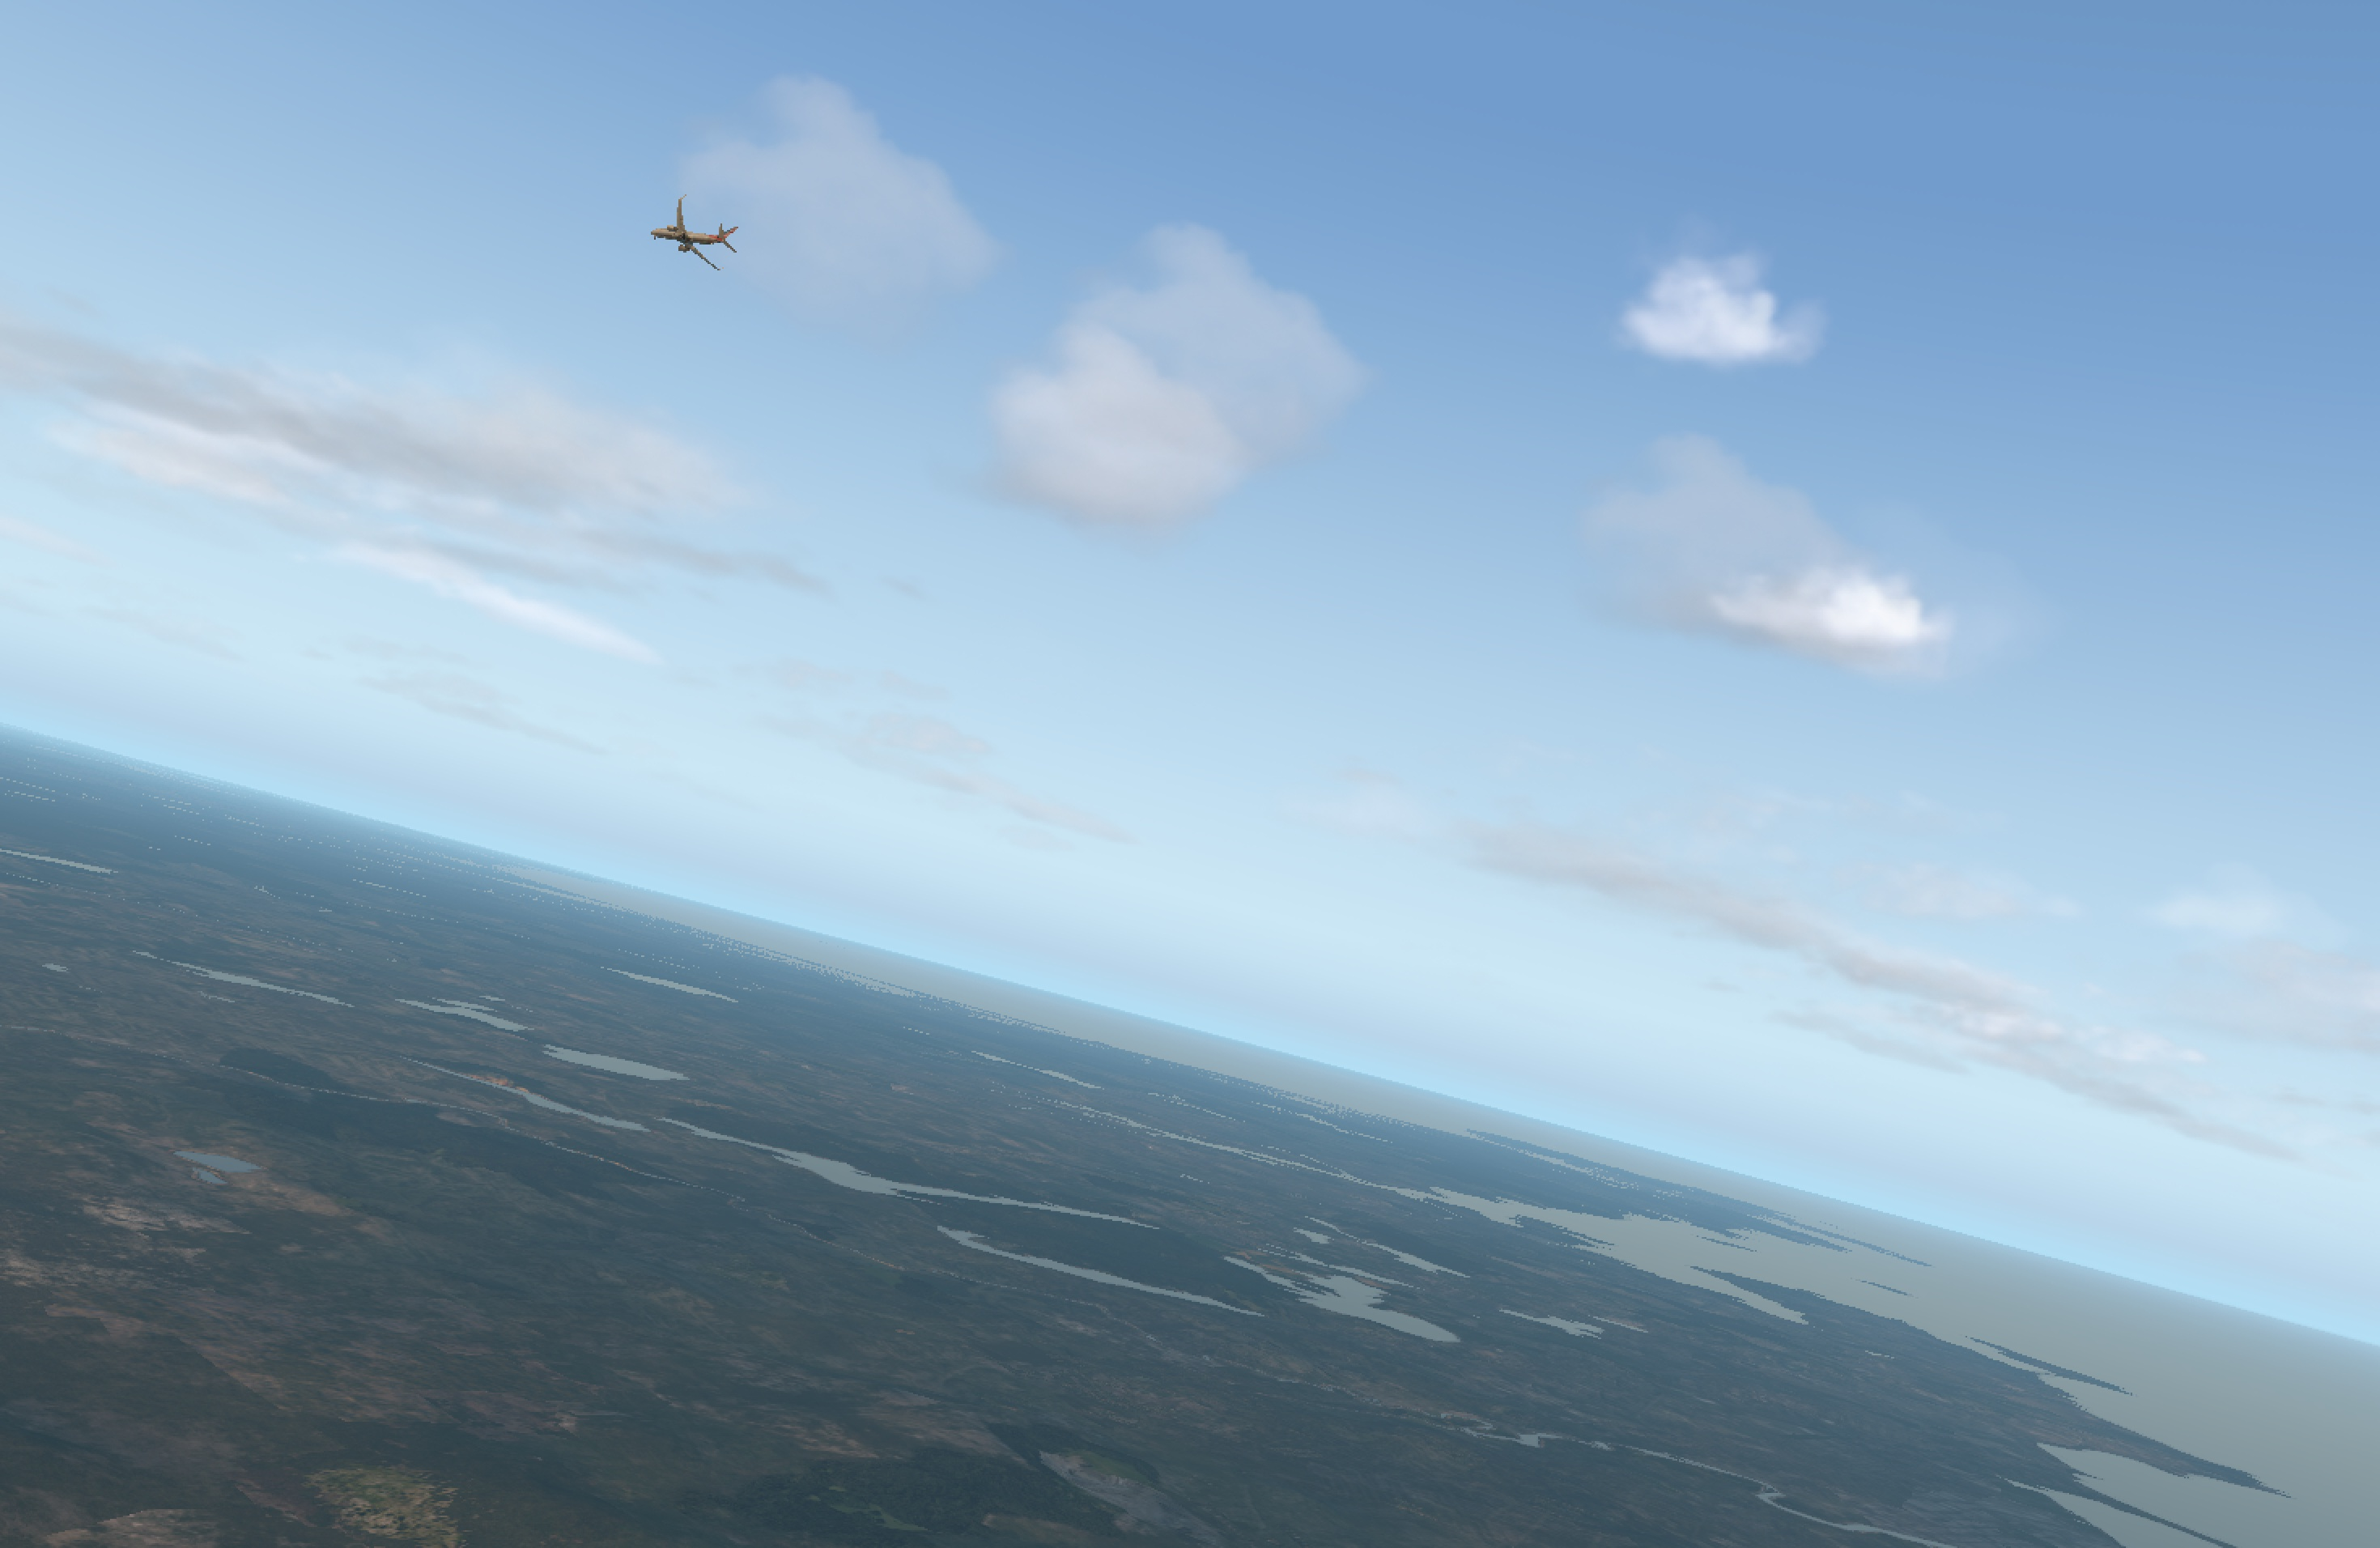aircraft: (637, 220, 732, 255)
